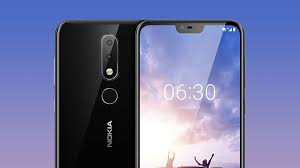nokia: (54, 19, 137, 168)
